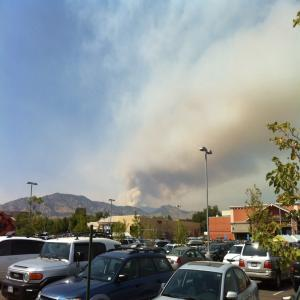Vehicle-registration-plate: (9, 287, 14, 294), (252, 264, 258, 268)
